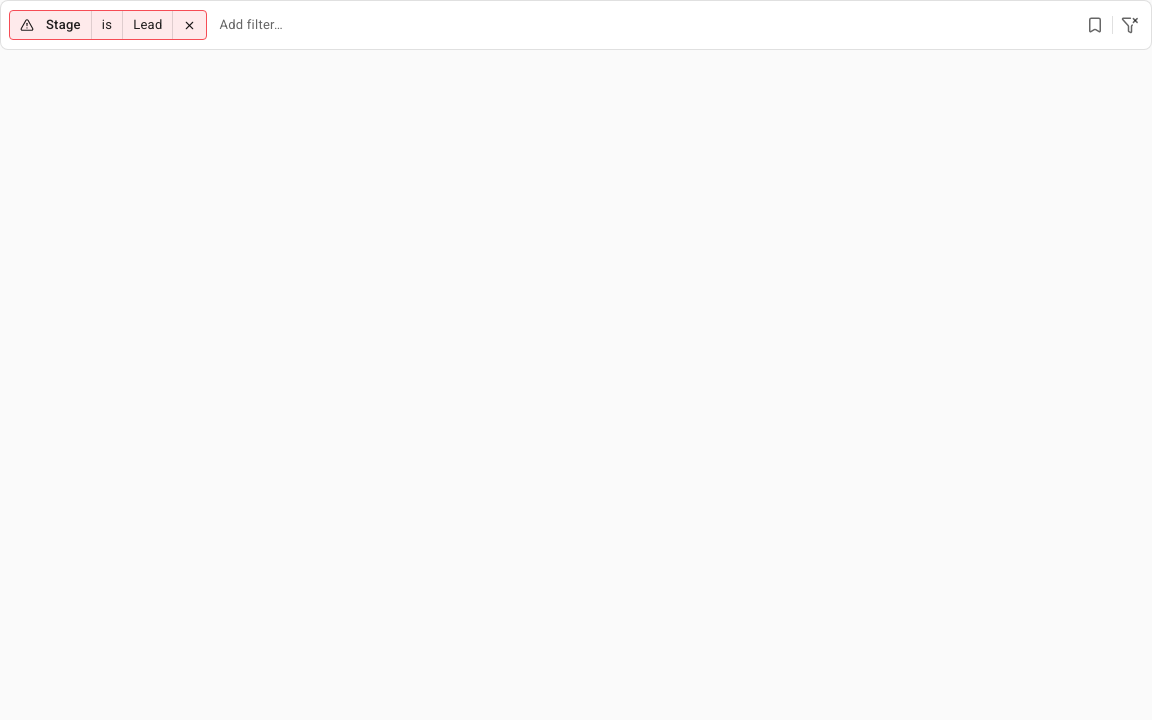
Test: controller integration regressions › opens a token with a removed operator at current operator selection
Click the button titled "Change value" at (148, 25), box [123,11,172,39]
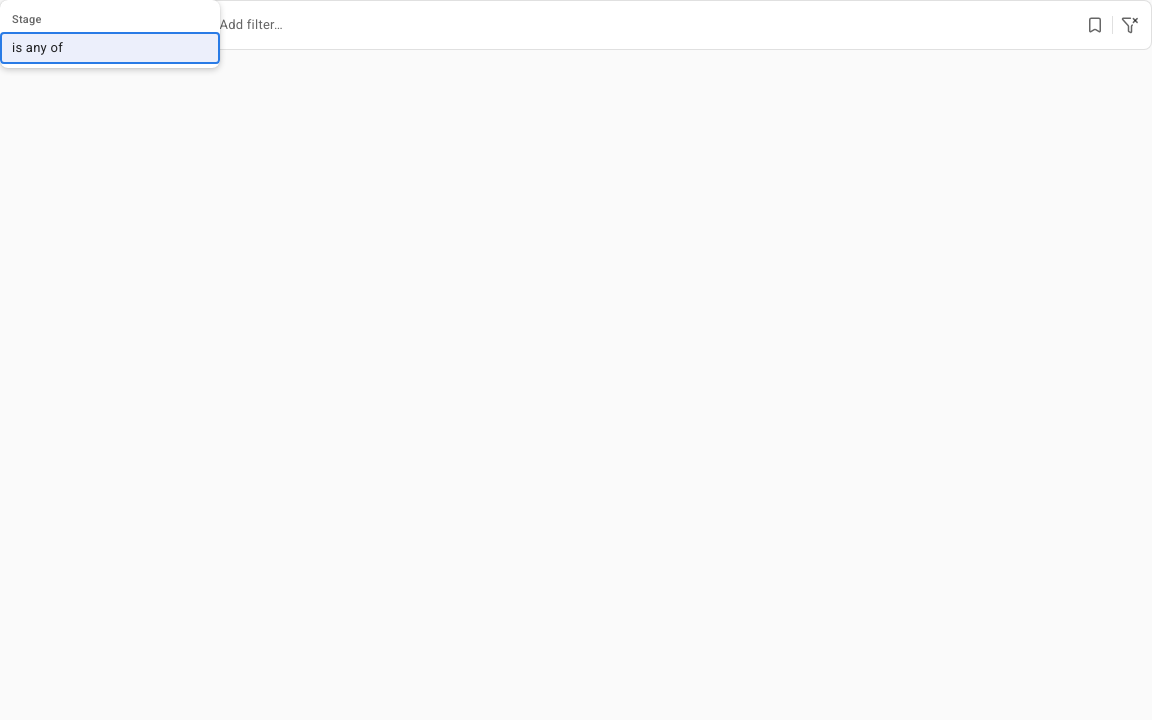
Result: the number of options is 1 at [0,32,220,64]
